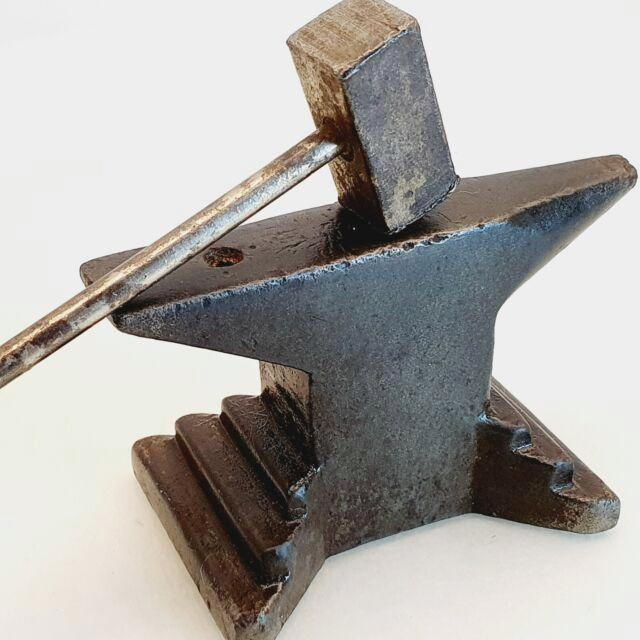hammer: (0, 0, 466, 395)
